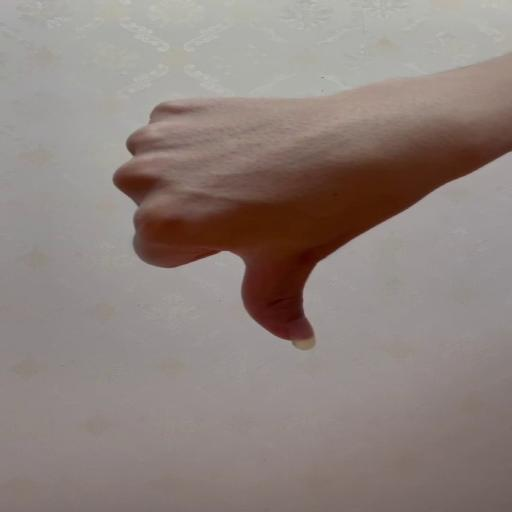thumbs_down: (110, 95, 427, 350)
